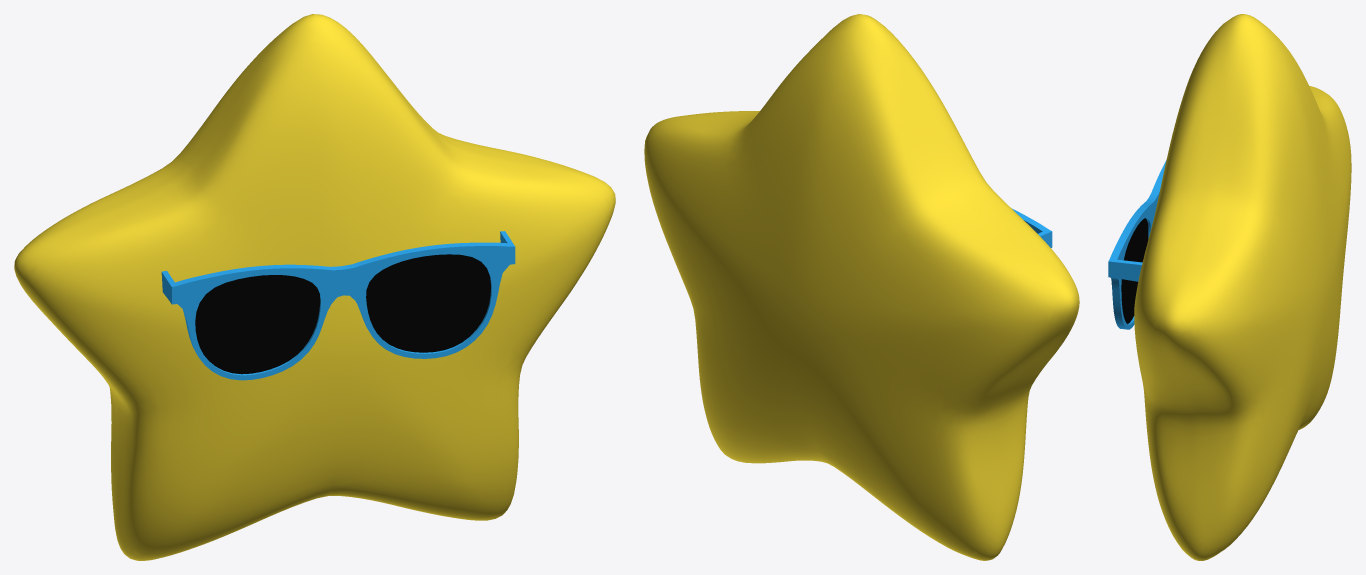
The model's file is Star.fbx.
3 renders of one model, left to right at view 1: azimuth 30°, elevation 25°; view 2: azimuth 150°, elevation 25°; view 3: azimuth 270°, elevation 25°, orthographic. The views are drawn at different scales.
Visible parts, largest first — view 1: star; view 2: star; view 3: star.
Boxes of the visible parts, bbox=[...] form: star: bbox=[14, 14, 615, 560]; star: bbox=[644, 14, 1079, 560]; star: bbox=[1108, 14, 1351, 560].
Size of the model in its own units: 22.11 by 21.13 by 9.78.
